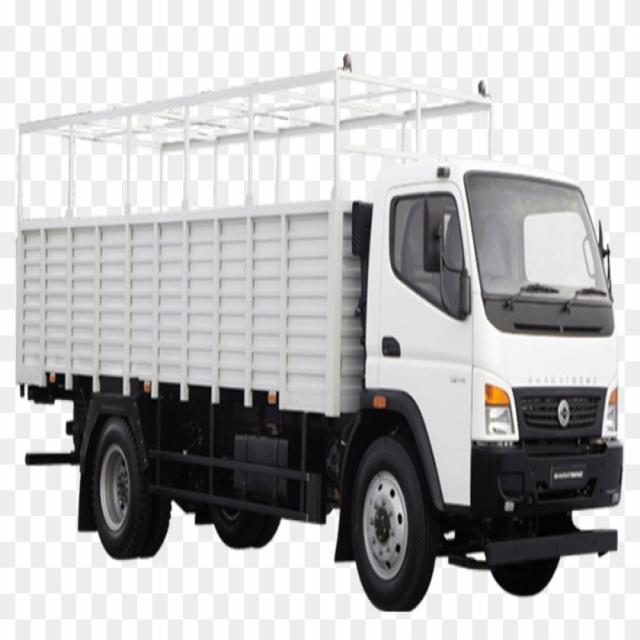truck: (16, 55, 622, 612)
